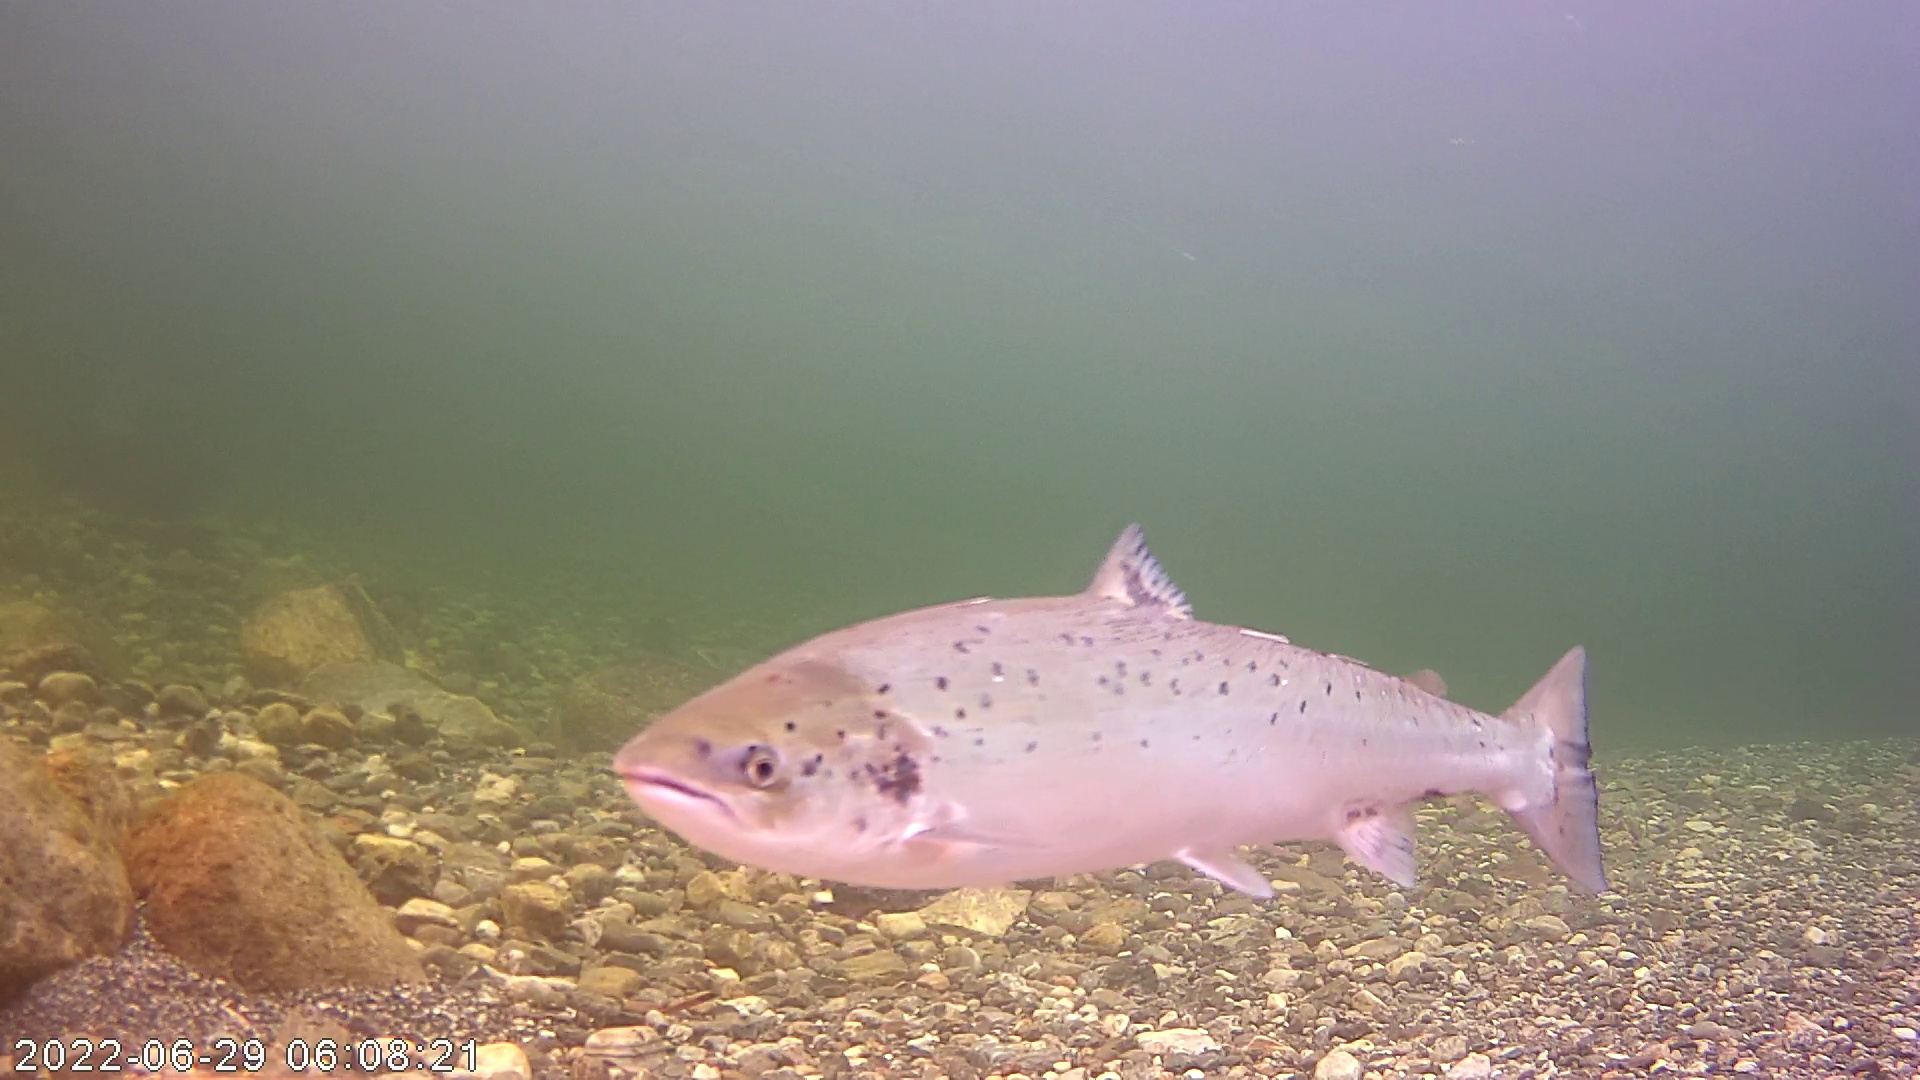salmon: (603, 468, 1607, 915)
